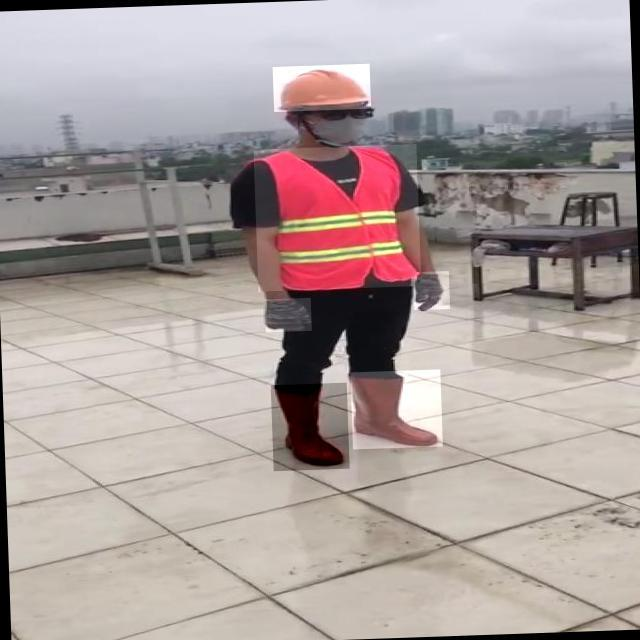Gloves: (265, 297, 312, 332), (413, 271, 450, 310)
Helmet: (272, 64, 371, 113)
Human: (213, 58, 456, 471)
Safety Boot: (350, 369, 442, 449), (270, 382, 349, 471)
Safety Vest: (254, 144, 423, 292)
